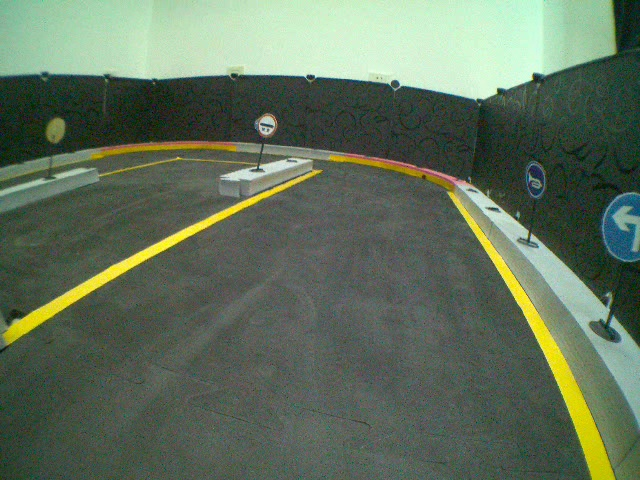Check: (257, 112, 277, 137)
horn: (524, 162, 548, 198)
turn: (599, 189, 640, 264)
